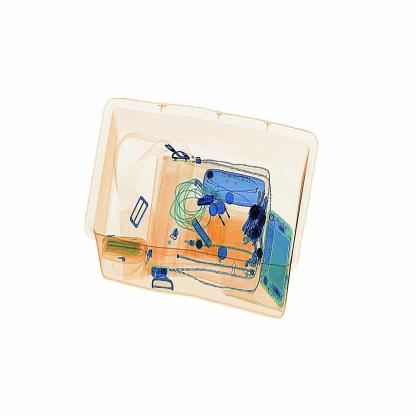knife: (189, 186, 217, 218)
